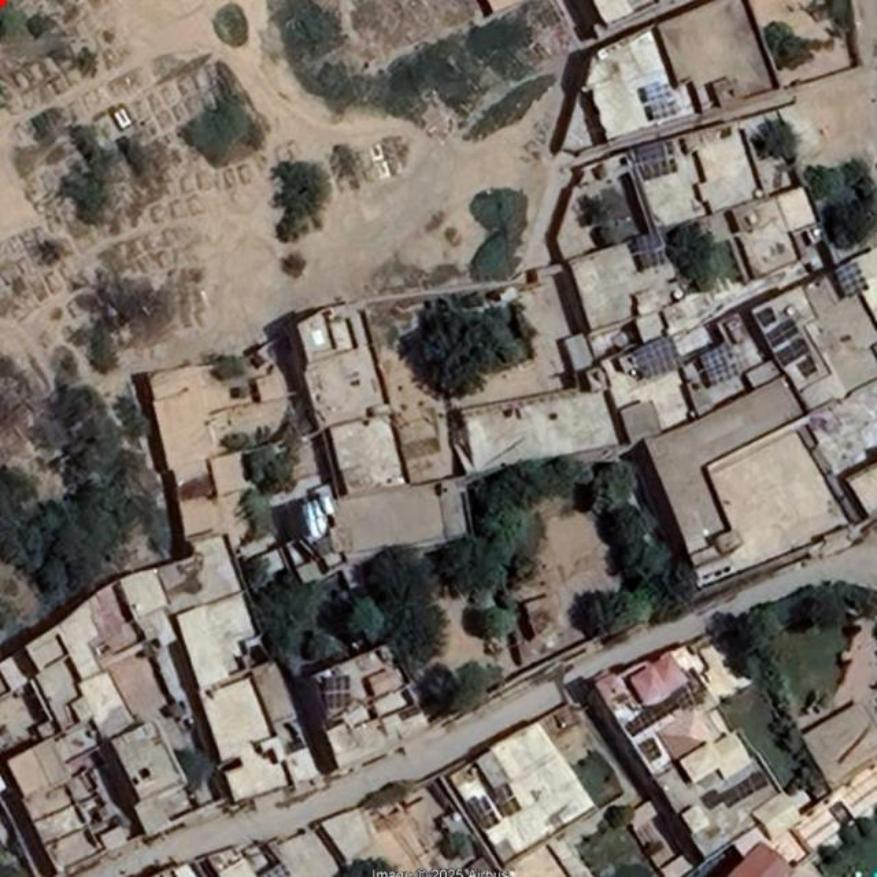Solarpanel: (626, 698, 680, 735), (637, 338, 679, 378), (701, 344, 738, 385), (726, 773, 768, 808), (636, 142, 677, 177), (646, 84, 681, 122), (837, 264, 867, 297), (635, 232, 664, 265), (766, 321, 800, 348), (327, 679, 352, 709), (776, 342, 810, 364), (799, 357, 818, 380), (759, 310, 781, 325)
